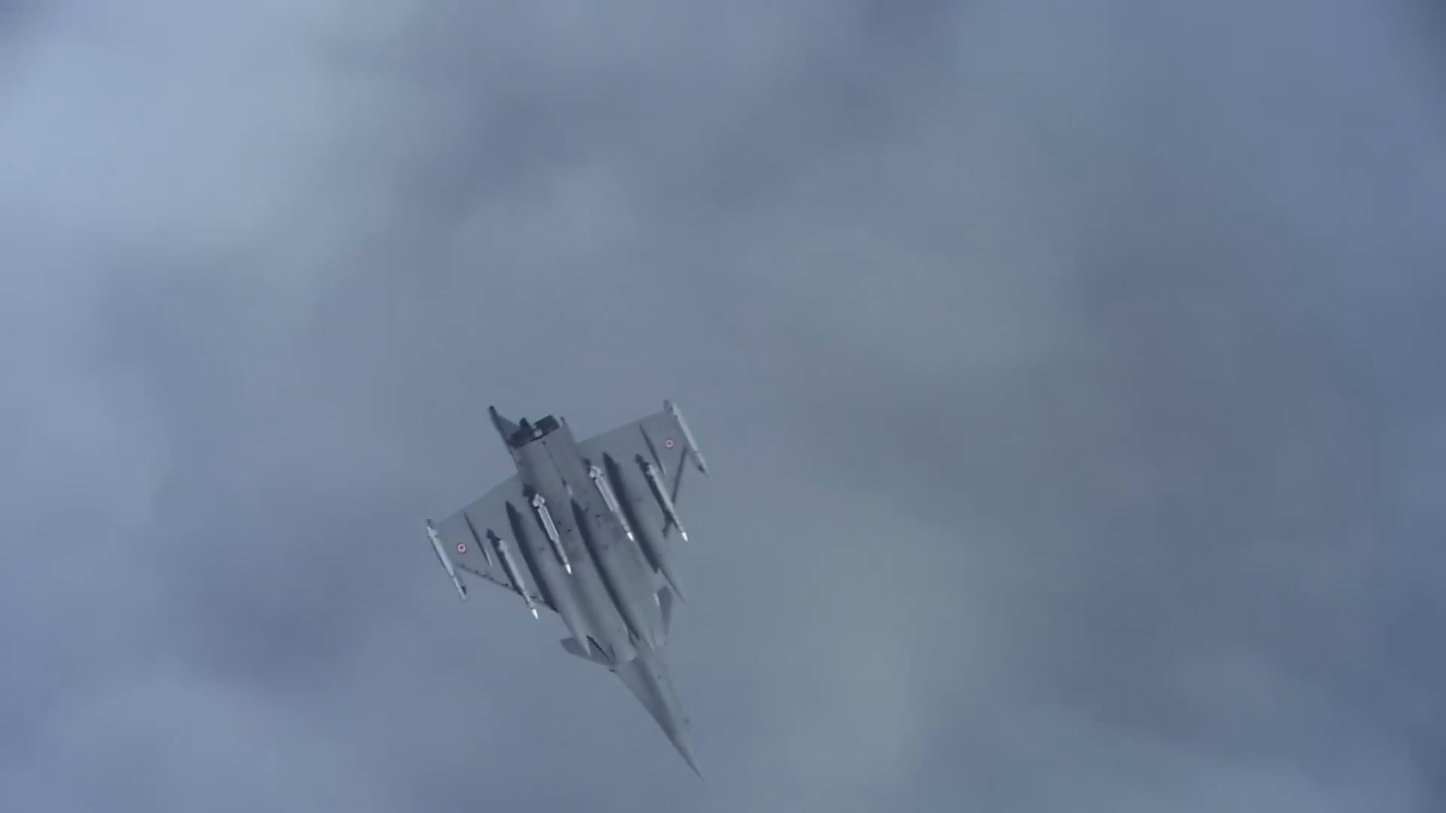Rafale: (418, 395, 720, 788)
